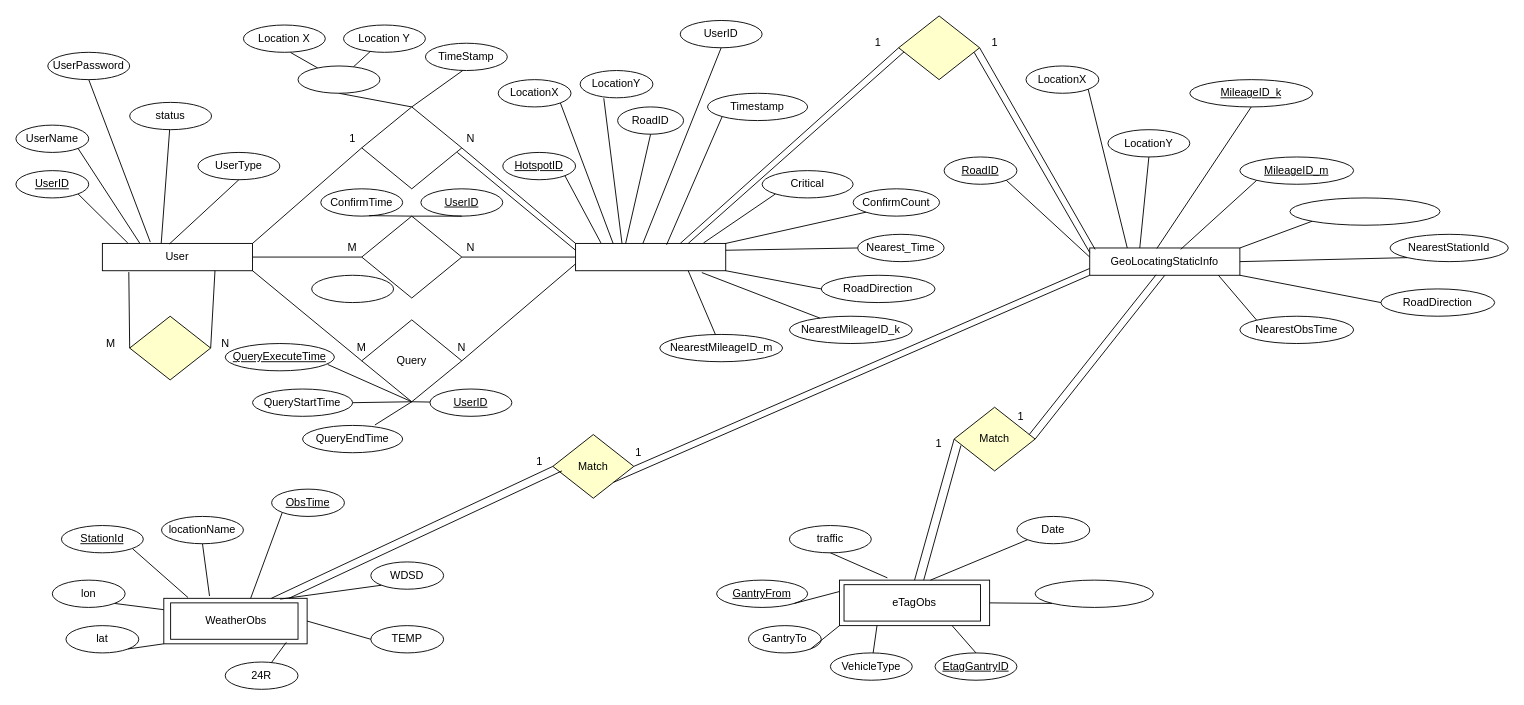
The diagram is 1524 pixels wide and 705 high, and some of its shapes have lost their labels. The shapes that lost their labels are listed below. From the top down, each one's centre as x and y in pixels, then its label:
At (939,47): "Occur in".
At (338,79): "Location".
At (411,147): "Report".
At (1364,211): "NearestETagGantryID".
At (411,256): "Comfirm".
At (650,257): "Hotspot".
At (352,288): "HopspotID".
At (170,347): "Manage".
At (1093,593): "SpaceMeanSpeed".
